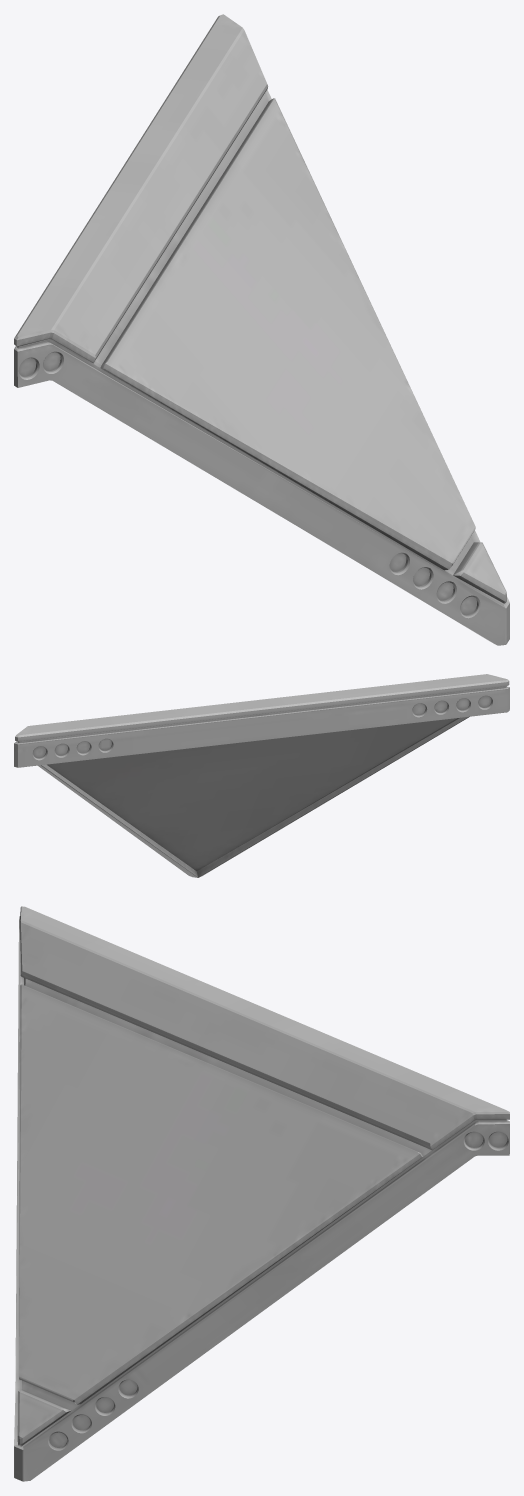
File: SM_SlopeRoofCornerReverse_SF_458bda.glb
3 views of the same model, one above another, from view 1: azimuth 30°, elevation 25°; view 2: azimuth 150°, elevation 25°; view 3: azimuth 270°, elevation 25° (orthographic). The views are drawn at different scales.
Bounding box in the file's own units: 4.04 × 3.3 × 4.04.
Materials: 1 (1 with a texture image).
